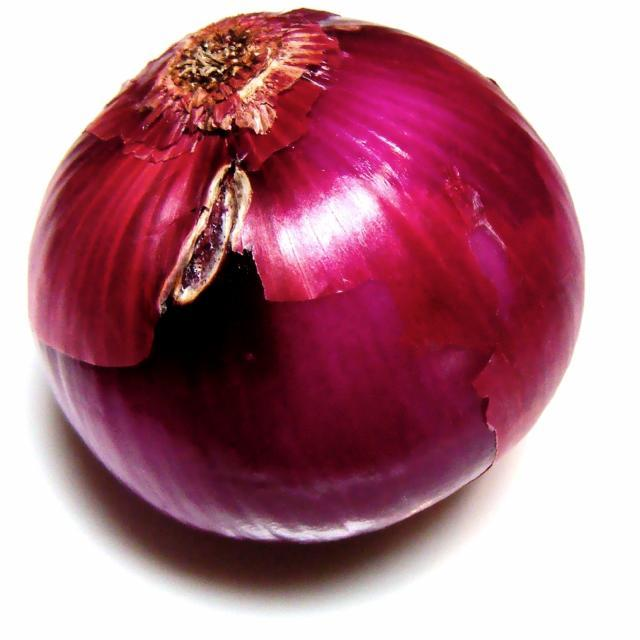onion: (26, 8, 588, 545)
